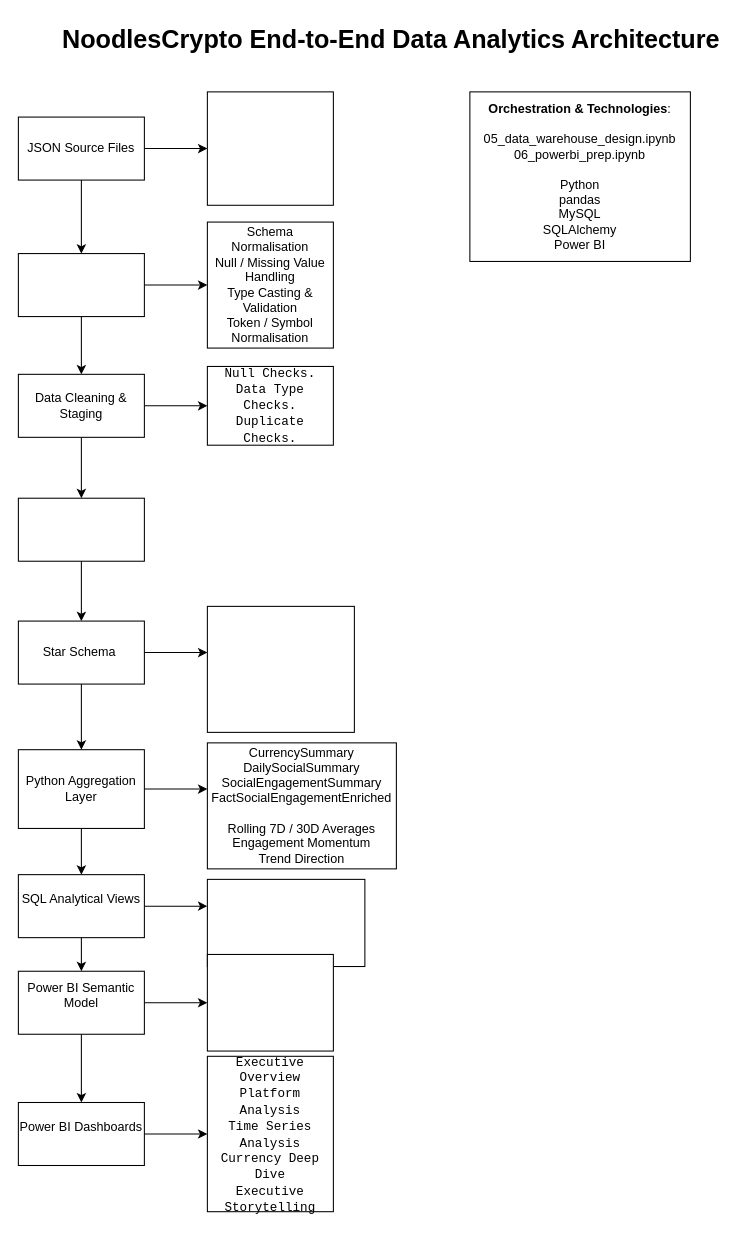
This 751x1247 diagram has some shape labels left out. The shapes that lost their labels are listed below. From the top down, each one's centre as x and y in pixels, then its label:
point 269,148: Twitter Engagement Data Reddit Post Engagement Data Market & Currency Metadata
point 80,285: Python ETL / pandas
point 80,529: MySQL – noodles_dw
point 280,668: Dimensions: DimCurrency DimDate DimPlatform Fact: FactSocialEngagement
point 285,922: vw_executivedashboard vw_timeseries vw_platformdaily vw_socialanalytics
point 269,1002: Relationships DAX Measures Time Intelligence Dynamic Top N Ranking
